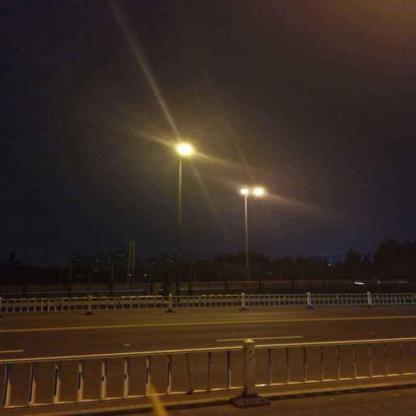other: (162, 134, 206, 166), (230, 176, 273, 200)
